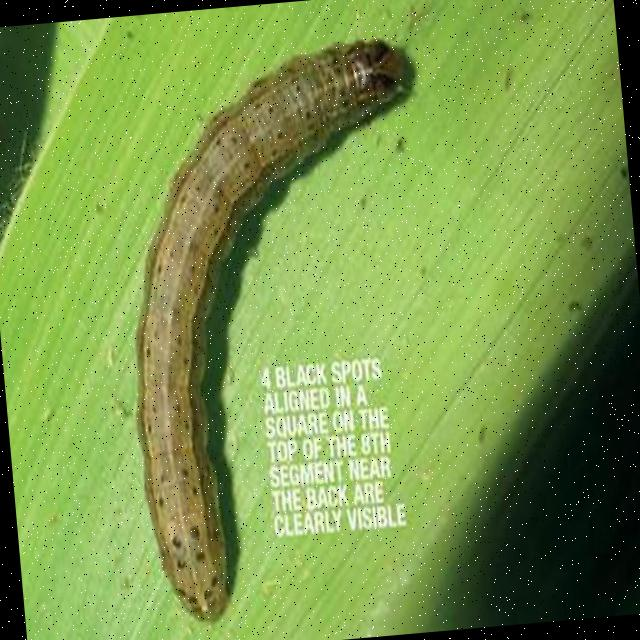worm: (105, 33, 458, 626)
